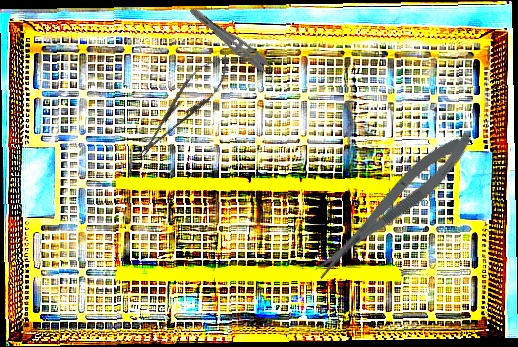Micro Scissor: (303, 124, 482, 286)
Needle Holder: (128, 46, 239, 167)
Tissue Forceps: (183, 4, 285, 87)
